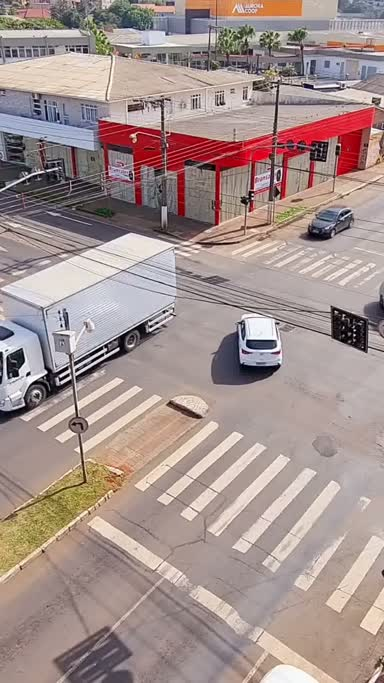car: (229, 305, 293, 375), (300, 194, 359, 246)
truck: (1, 228, 186, 419)
